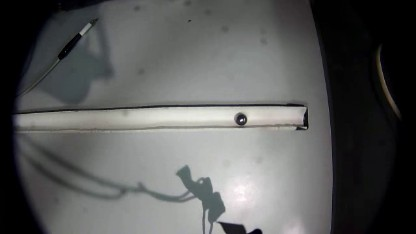gangzhu: (233, 111, 248, 126)
